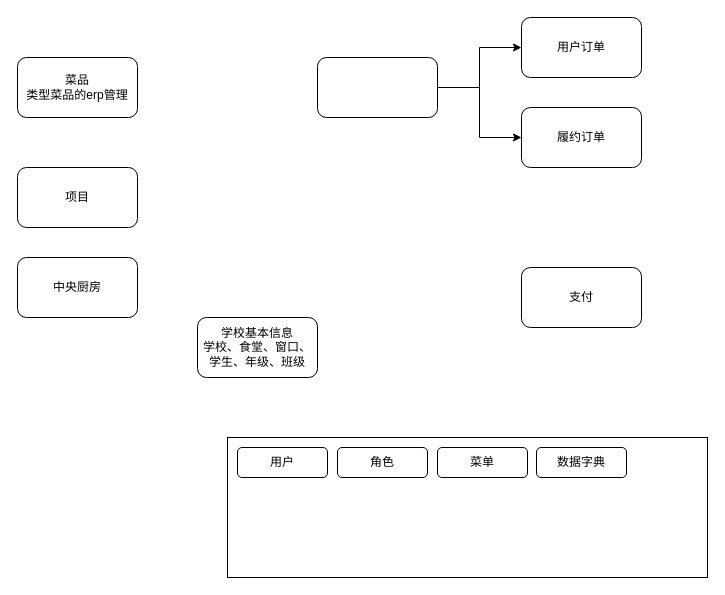
Image size: 725x595. Some labels were removed from this diagram. The shapes that lost their labels are listed below. From the top down, each one's box as (x1, y1, x2, y2) in pixels, then its label:
(316, 56, 438, 118): 订单管理
(226, 436, 708, 578): 系统基本信息
